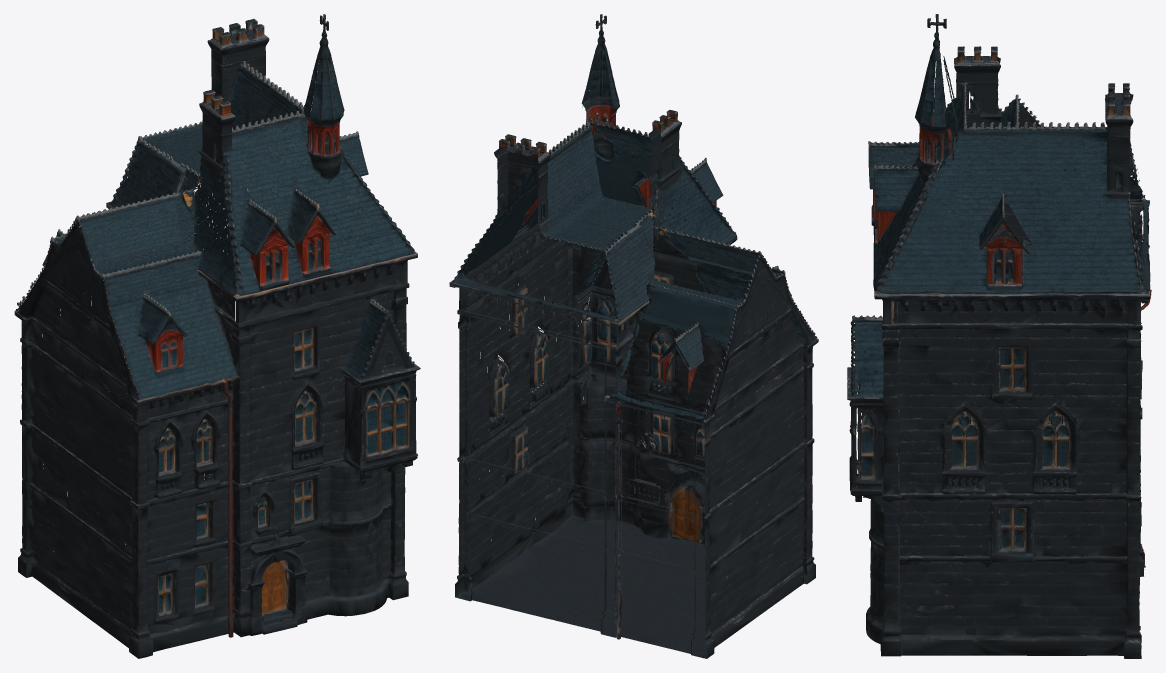
File: gothic_block.glb
3 views of the same model, side by side, from view 1: azimuth 30°, elevation 25°; view 2: azimuth 150°, elevation 25°; view 3: azimuth 270°, elevation 25° (orthographic). The views are drawn at different scales.
Bounding box in the file's own units: 0.9556 × 1.9 × 0.8568.
Materials: 1 (1 with a texture image).
